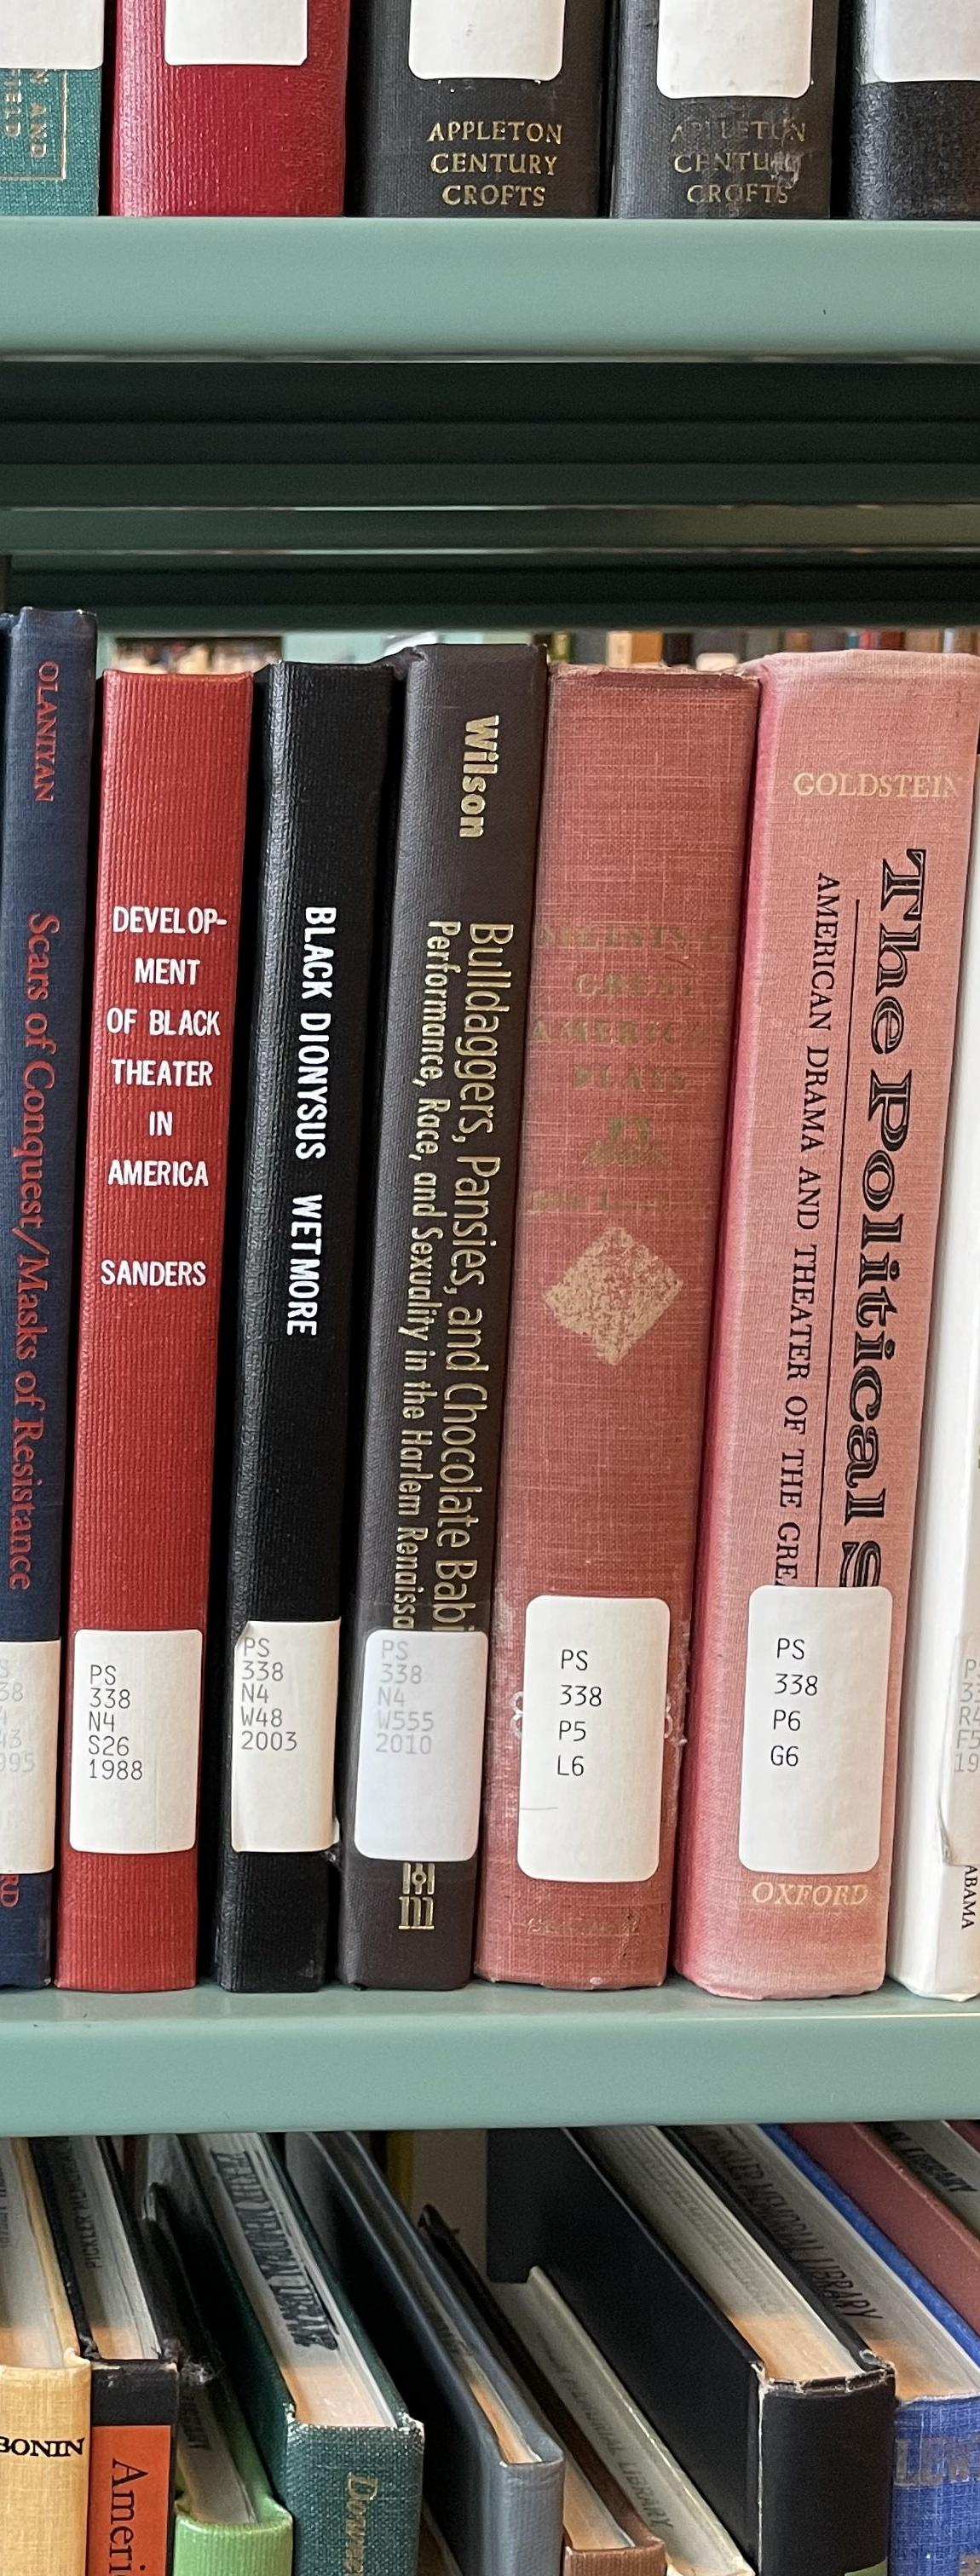call_number: (526, 1595, 658, 1878), (748, 1589, 875, 1873), (74, 1628, 192, 1847), (367, 1630, 478, 1856), (237, 1621, 332, 1848)
